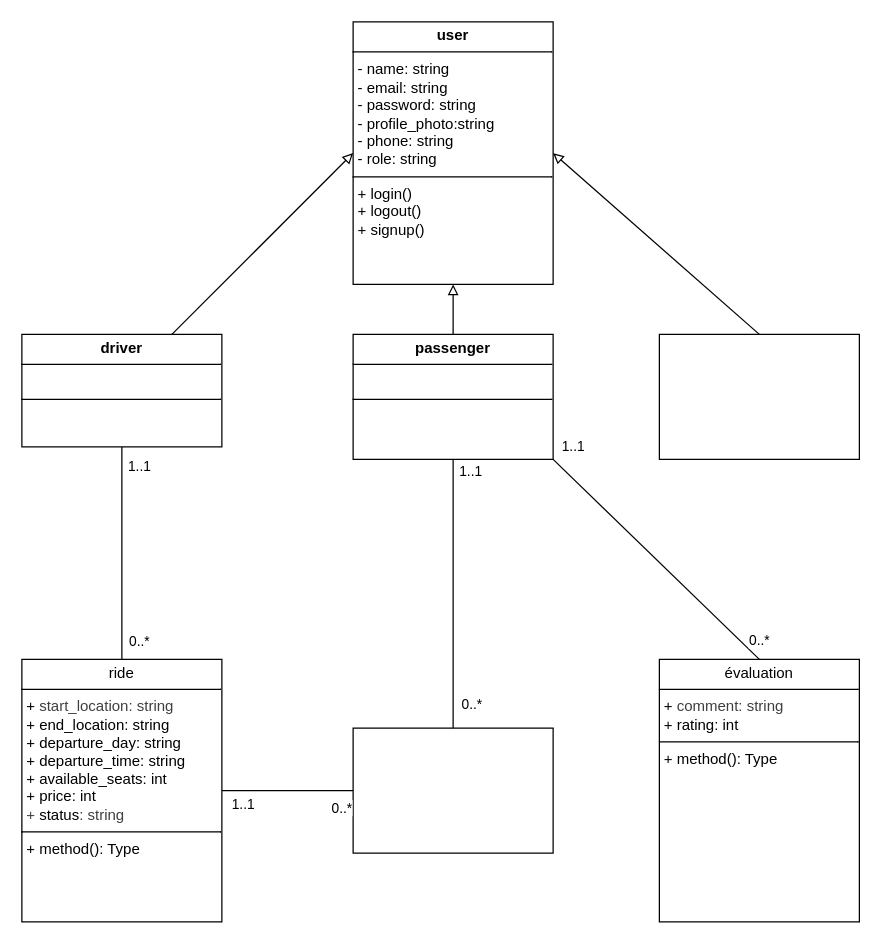
Image size: 881x944. Some labels were removed from this diagram. The box of each missing label's shape, as (x1, y1, x2, y2) in pixels:
admin: (658, 333, 859, 459)
reservation + seats_reserved: string + status: string + method(): Type: (352, 727, 553, 853)
